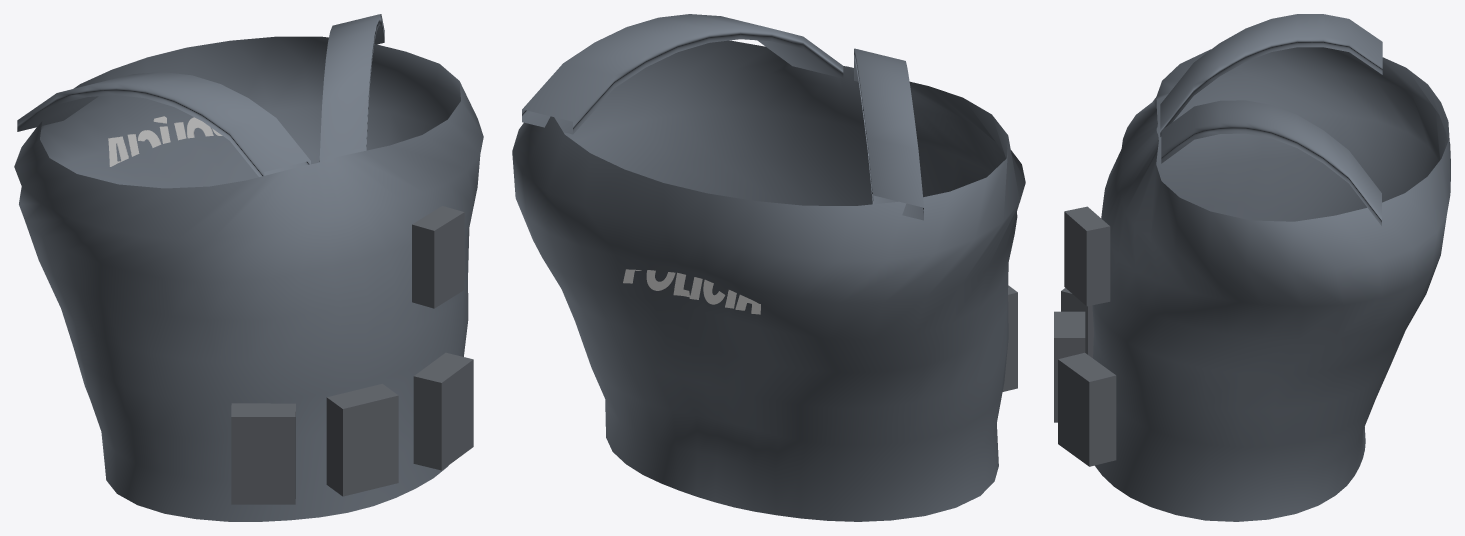
Rendered from colete_pm.glb.
3 views of the same model, side by side, from view 1: azimuth 30°, elevation 25°; view 2: azimuth 150°, elevation 25°; view 3: azimuth 270°, elevation 25° (orthographic). The views are drawn at different scales.
Parts seen in each view (by area): view 1: colete_pm; view 2: colete_pm; view 3: colete_pm.
Boxes of the visible parts, x1,y1,x2,y2 form: colete_pm: (14,14,483,521); colete_pm: (512,14,1025,521); colete_pm: (1054,14,1450,521).
Bounding box in the file's own units: 0.4543 × 0.3933 × 0.3819.
3 materials, 1 textured.
